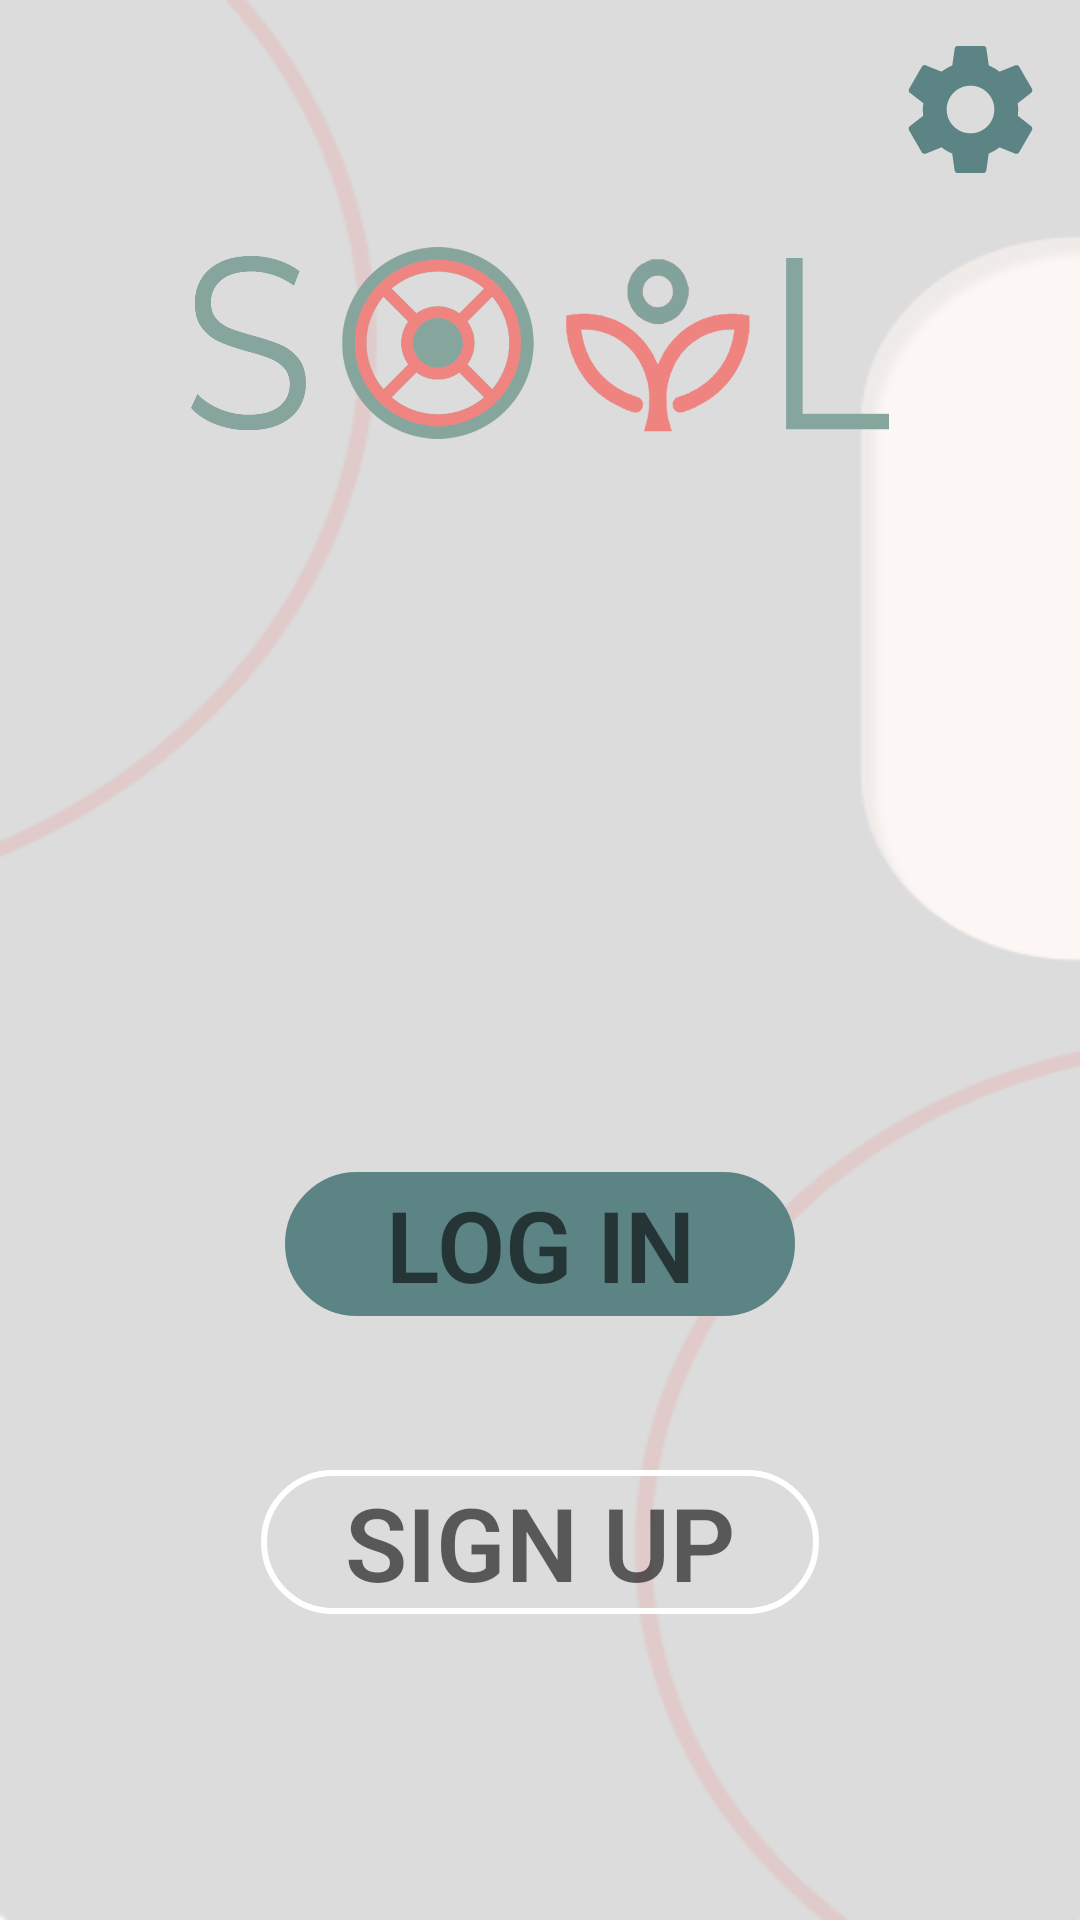

Where to tap for icons on this 1080x1920 app screen, as [x,y]:
Settings: [970,109]
